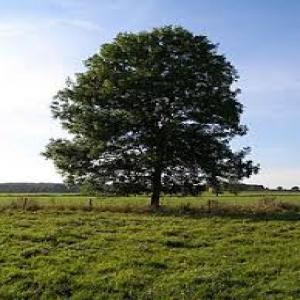Tree: (42, 22, 258, 206)
